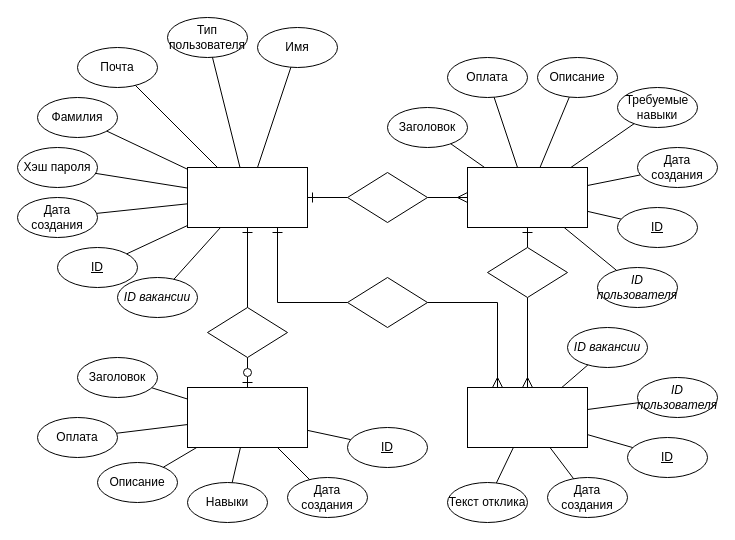
Some shapes in this 735 by 540 pixel diagram are drawn without their labels. The shapes that lost their labels are listed below. From the top down, each one's centre as x and y in pixels, then its label:
point 247,197: Пользователь
point 527,197: Вакансия
point 247,417: Резюме
point 527,417: Отклик
